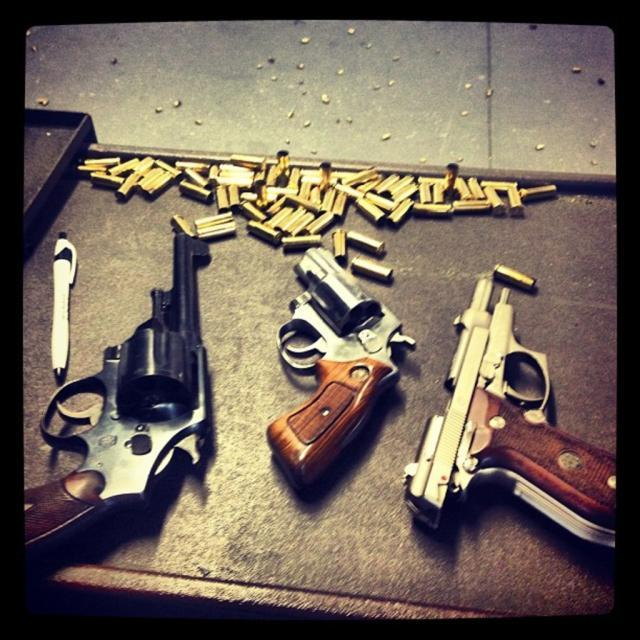Gun: (26, 234, 210, 544), (405, 275, 615, 546), (268, 248, 415, 488)
